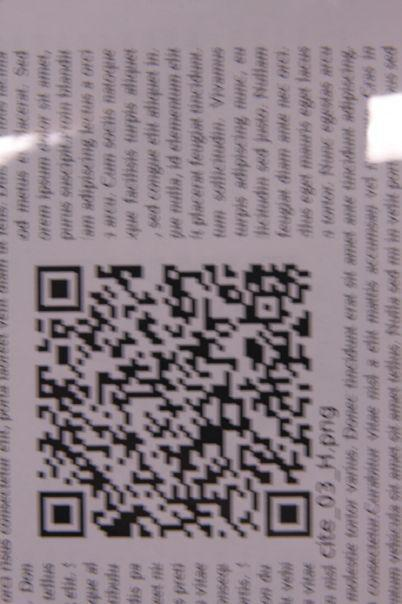Finder pattern: (32, 487, 89, 545), (30, 262, 89, 316), (261, 484, 314, 543)
